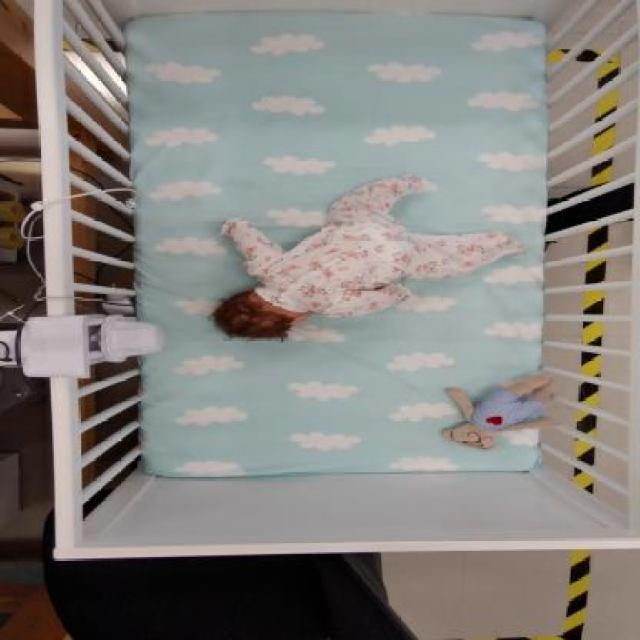baby: (208, 170, 528, 345)
